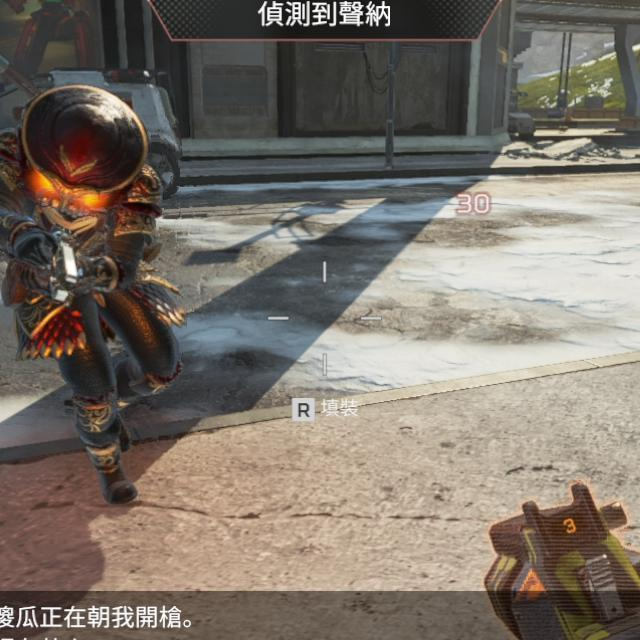avatar: (0, 81, 185, 509)
